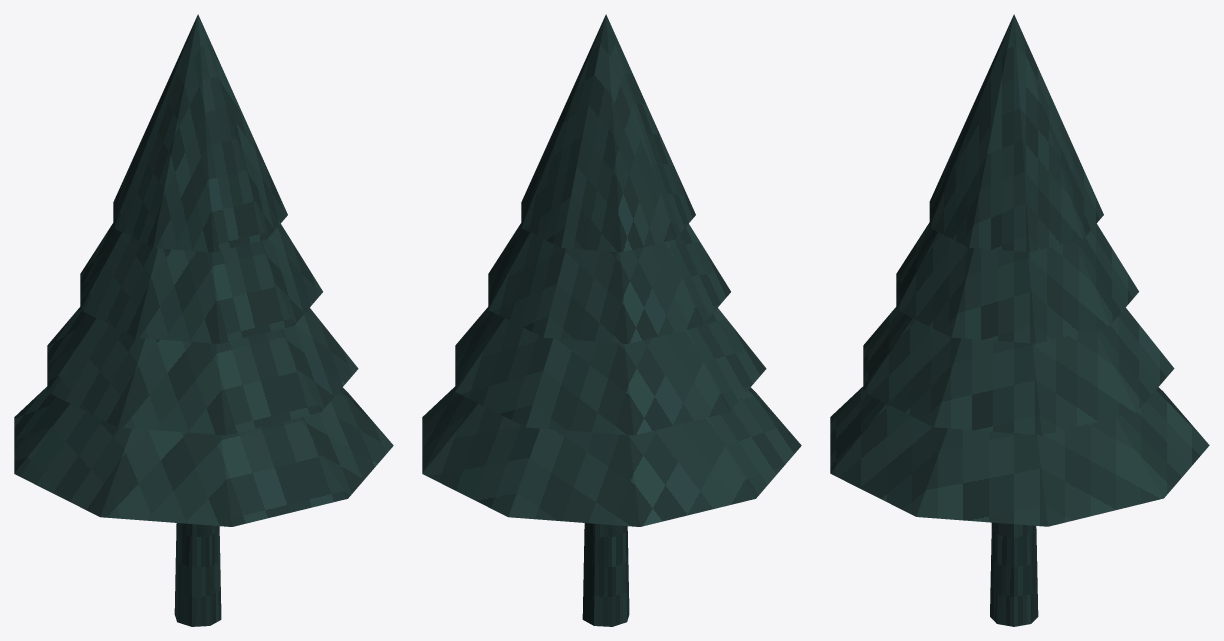
The model's file is pine_41.glb.
The picture shows the model from 3 angles, left to right: view 1: azimuth 30°, elevation 25°; view 2: azimuth 150°, elevation 25°; view 3: azimuth 270°, elevation 25°; orthographic projection.
Parts seen in each view (by area): view 1: Needles, Needles.001, Needles.003, Needles.002, Trunk; view 2: Needles, Needles.001, Needles.003, Needles.002, Trunk; view 3: Needles, Needles.001, Needles.003, Needles.002, Trunk.
Boxes of the visible parts, x1,y1,x2,y2 form: Needles: (14,386,393,526); Needles.001: (47,307,358,435); Needles.003: (113,14,287,252); Needles.002: (80,223,322,343); Trunk: (174,523,221,626); Needles: (422,386,801,526); Needles.001: (455,307,766,435); Needles.003: (521,14,695,252); Needles.002: (488,223,730,343); Trunk: (582,523,629,626); Needles: (830,386,1209,526); Needles.001: (863,307,1174,435); Needles.003: (929,14,1103,252); Needles.002: (896,222,1138,343); Trunk: (990,522,1038,626).
Size of the model in its own units: 3.18 by 5.5 by 3.14.
1 material, 1 textured.
